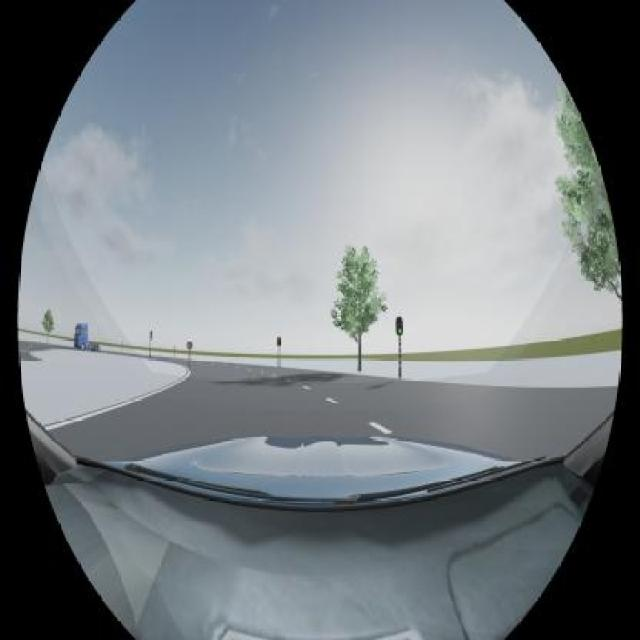forb_speed_over_70: (187, 342, 193, 349)
